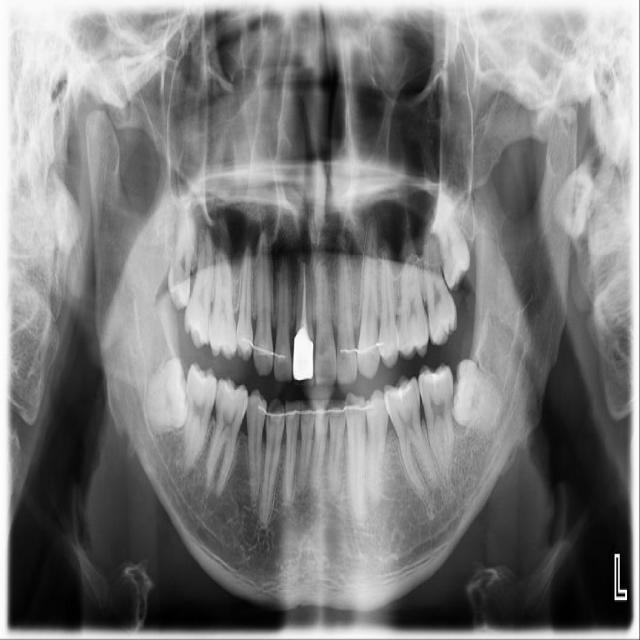Crown: (293, 335, 315, 386)
Root Canal Treatment: (300, 267, 306, 325)
impacted tooth: (451, 361, 508, 429), (434, 190, 470, 288), (140, 359, 190, 429), (166, 197, 196, 307)
